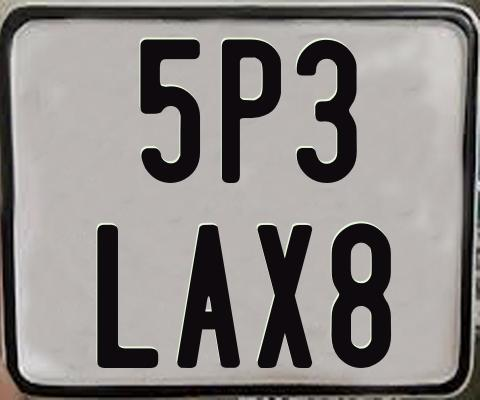3: (296, 38, 356, 187)
5: (139, 36, 203, 183)
8: (331, 223, 391, 371)
A: (175, 222, 242, 371)
L: (94, 222, 158, 371)
P: (221, 36, 280, 184)
X: (258, 224, 318, 370)
